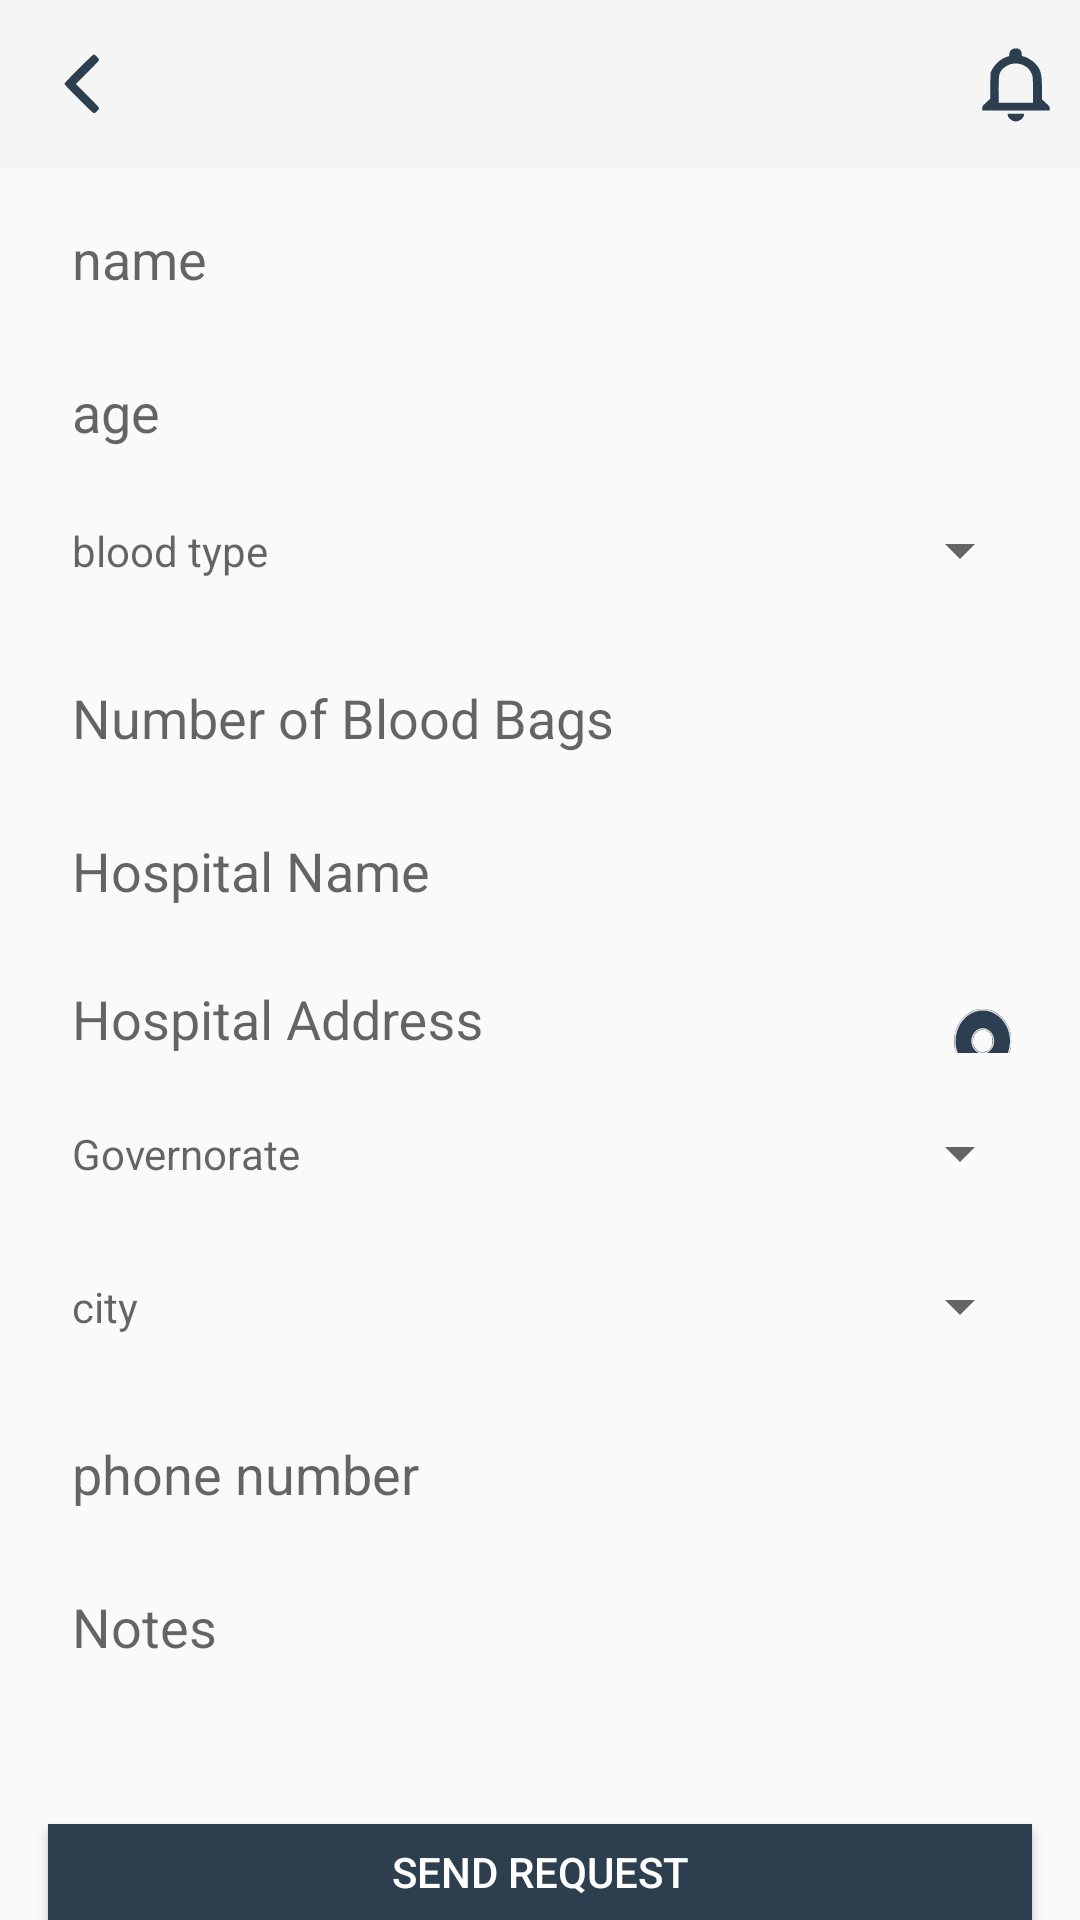

Icon bounding boxes for this 1080px x 1920px phone screenshot, format box(x1, y1, x2, y2):
leftarrow: box(64, 54, 99, 113)
notfications: box(982, 48, 1050, 122)
